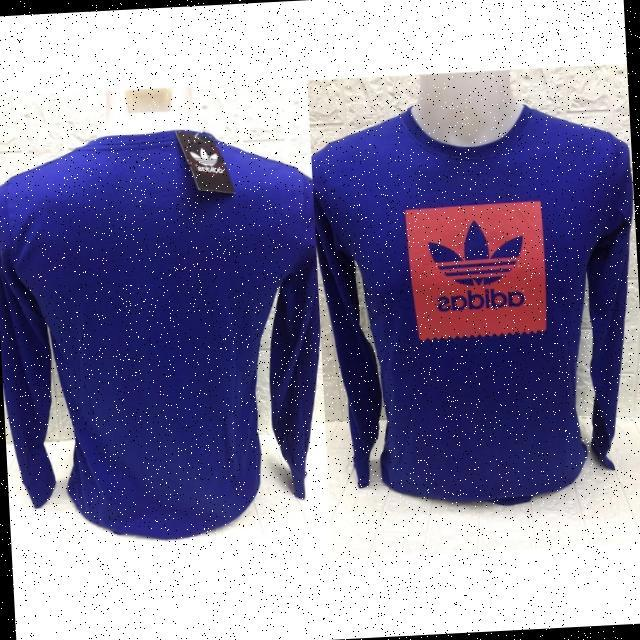Adidas: (429, 216, 528, 313), (184, 140, 226, 178)
